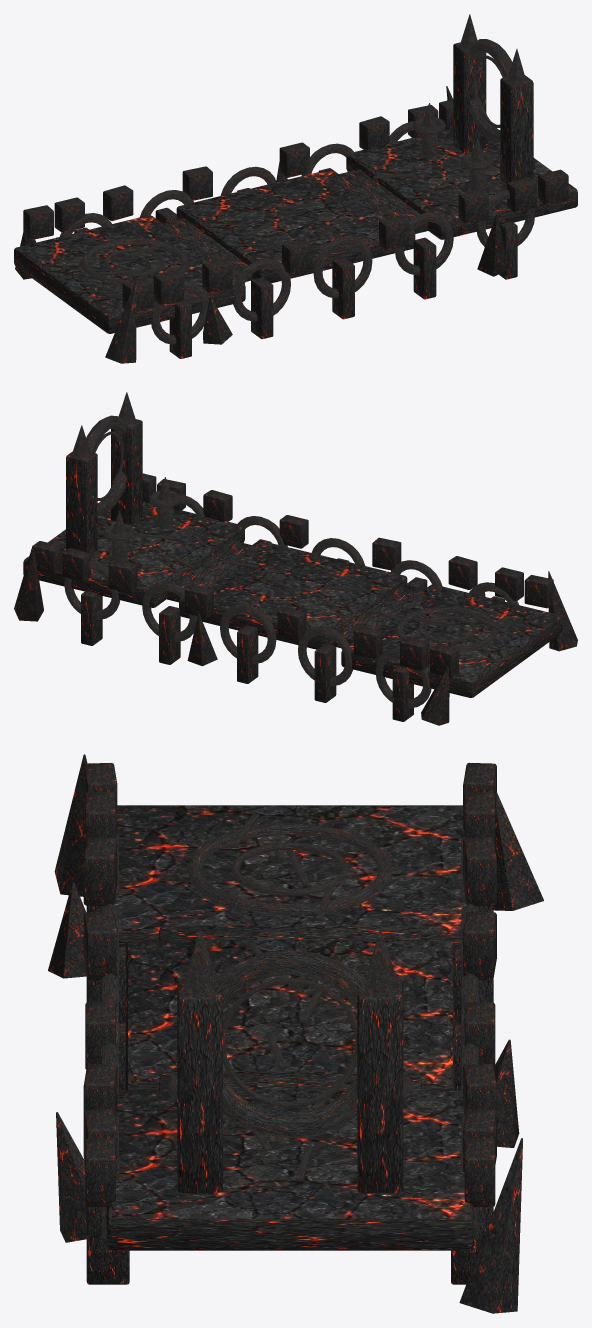
File: terrain-cinder-span.glb
3 renders of one model, top to bottom at view 1: azimuth 30°, elevation 25°; view 2: azimuth 150°, elevation 25°; view 3: azimuth 270°, elevation 25°, orthographic. The views are drawn at different scales.
Parts seen in each view (by area): view 1: cinder-bridge-court-1, cinder-bridge-court-0, cinder-bridge-court-2, cinder-forge-gate-pier--1, cinder-forge-gate-pier-+1, cinder-bridge-span-1, cinder-bridge-span-0, cinder-basalt-crag-0, cinder-underarch--1-2, cinder-underarch--1-1, cinder-forge-gate-arch, cinder-arch-pier--1-3 (+29 smaller); view 2: cinder-bridge-court-1, cinder-bridge-court-0, cinder-bridge-court-2, cinder-forge-gate-pier-+1, cinder-forge-gate-pier--1, cinder-bridge-span-1, cinder-bridge-span-0, cinder-basalt-crag-5, cinder-underarch-1-2, cinder-underarch-1-1, cinder-forge-gate-arch, cinder-arch-pier-1-1 (+29 smaller); view 3: cinder-bridge-court-2, cinder-bridge-court-0, cinder-bridge-court-1, cinder-forge-gate-pier-+1, cinder-forge-gate-pier--1, cinder-forge-gate-arch, cinder-basalt-crag-5, cinder-west-seal, cinder-bridge-span-0, cinder-basalt-crag-1, cinder-basalt-crag-4, cinder-bridge-span-1 (+27 smaller).
Part boxes in pixels (x1,y1,x2,y2): cinder-bridge-court-1: [176, 169, 415, 283]; cinder-bridge-court-0: [14, 215, 245, 333]; cinder-bridge-court-2: [346, 129, 577, 239]; cinder-forge-gate-pier--1: [500, 75, 533, 184]; cinder-forge-gate-pier-+1: [453, 42, 486, 152]; cinder-bridge-span-1: [328, 169, 427, 233]; cinder-bridge-span-0: [159, 218, 252, 281]; cinder-basalt-crag-0: [105, 280, 136, 363]; cinder-underarch--1-2: [313, 235, 372, 298]; cinder-underarch--1-1: [233, 258, 290, 321]; cinder-forge-gate-arch: [469, 39, 512, 143]; cinder-arch-pier--1-3: [413, 237, 436, 299]; cinder-bridge-court-1: [179, 541, 407, 649]; cinder-bridge-court-0: [341, 584, 562, 697]; cinder-bridge-court-2: [23, 502, 244, 607]; cinder-forge-gate-pier-+1: [66, 451, 97, 554]; cinder-forge-gate-pier--1: [111, 419, 142, 524]; cinder-bridge-span-1: [167, 540, 261, 602]; cinder-bridge-span-0: [334, 587, 423, 647]; cinder-basalt-crag-5: [14, 545, 43, 621]; cinder-underarch-1-2: [220, 604, 276, 663]; cinder-underarch-1-1: [298, 626, 352, 685]; cinder-forge-gate-arch: [86, 415, 127, 515]; cinder-arch-pier-1-1: [314, 644, 336, 702]; cinder-bridge-court-2: [106, 1090, 473, 1250]; cinder-bridge-court-0: [114, 805, 466, 947]; cinder-bridge-court-1: [125, 940, 454, 1090]; cinder-forge-gate-pier-+1: [357, 979, 403, 1192]; cinder-forge-gate-pier--1: [177, 979, 222, 1192]; cinder-forge-gate-arch: [214, 950, 365, 1137]; cinder-basalt-crag-5: [459, 1138, 522, 1313]; cinder-west-seal: [187, 823, 392, 915]; cinder-bridge-span-0: [158, 925, 421, 939]; cinder-basalt-crag-1: [493, 792, 543, 910]; cinder-basalt-crag-4: [56, 1112, 86, 1242]; cinder-bridge-span-1: [158, 1071, 421, 1090].
Size of the model in its own units: 13.93 by 5.52 by 6.49.
4 materials, 4 textured.
